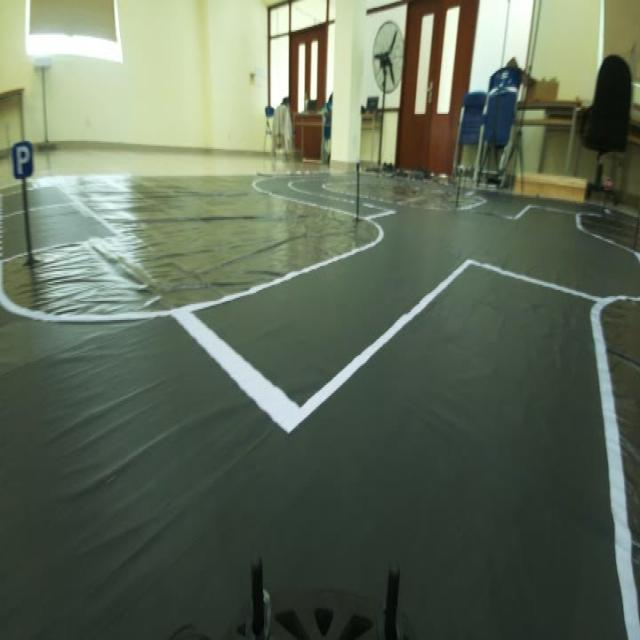parking: (9, 131, 41, 183)
